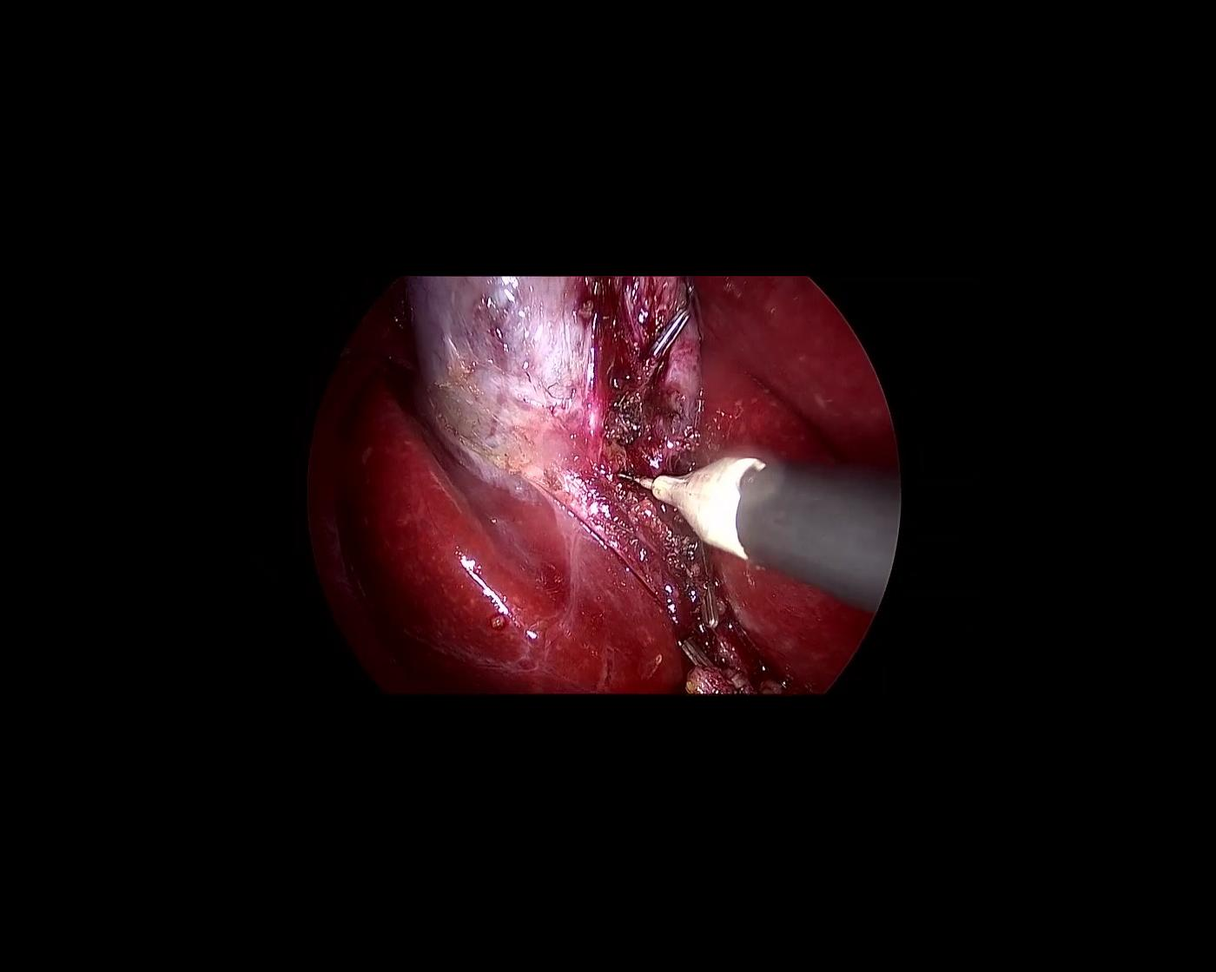Cautery: (600, 407, 912, 611)
Gallbladder: (410, 272, 605, 482)
Liver: (193, 281, 705, 835), (661, 245, 944, 710)
